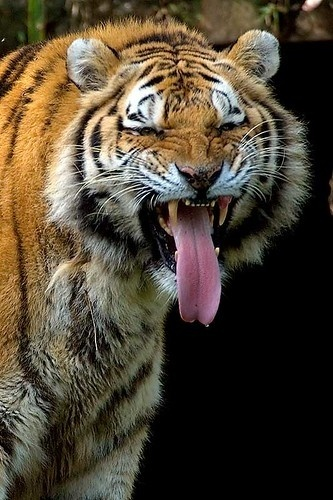tigre: (1, 15, 309, 500)
